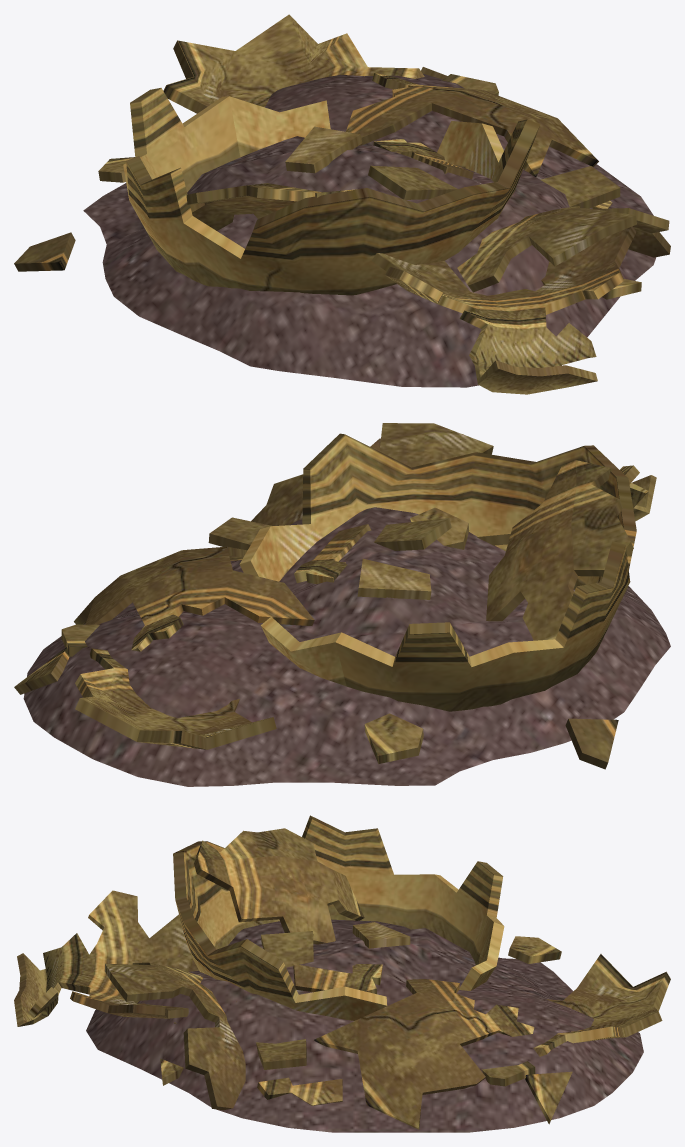
The model's file is vasebrokene.fbx.
3 renders of one model, top to bottom at view 1: azimuth 30°, elevation 25°; view 2: azimuth 150°, elevation 25°; view 3: azimuth 270°, elevation 25°, orthographic. The views are drawn at different scales.
Parts seen in each view (by area): view 1: polySurface1893; view 2: polySurface1893; view 3: polySurface1893.
Boxes of the visible parts, x1,y1,x2,y2 form: polySurface1893: (14, 14, 670, 394); polySurface1893: (14, 423, 670, 786); polySurface1893: (14, 815, 670, 1132).
Bounding box in the file's own units: 107 × 31.6 × 134.
